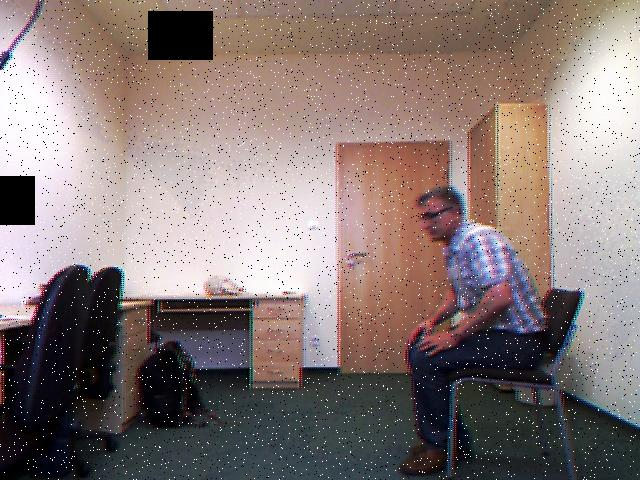sitting: (392, 182, 563, 480)
